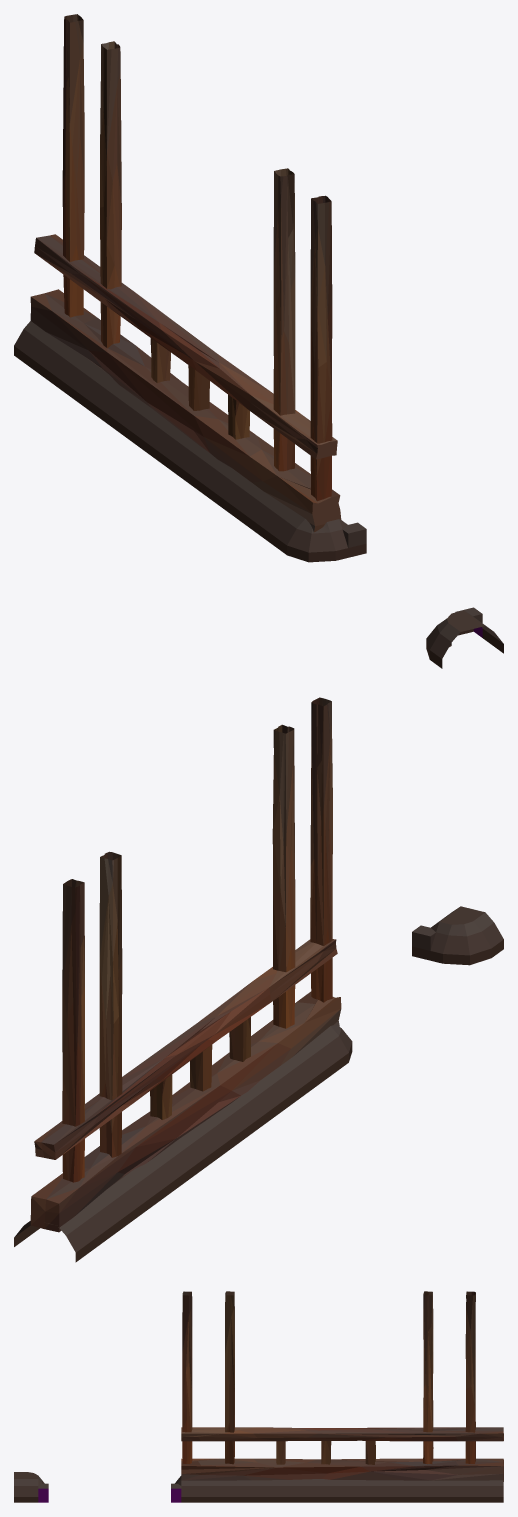
File: Wall_HomeA-StairsPathB.fbx
3 renders of one model, top to bottom at view 1: azimuth 30°, elevation 25°; view 2: azimuth 150°, elevation 25°; view 3: azimuth 270°, elevation 25°, orthographic. The views are drawn at different scales.
Visible parts, largest first — view 1: Wall_HomeA-StairsPathB; view 2: Wall_HomeA-StairsPathB; view 3: Wall_HomeA-StairsPathB.
Part boxes in pixels (x1,y1,x2,y2): Wall_HomeA-StairsPathB: (14,14,503,668); Wall_HomeA-StairsPathB: (14,697,503,1262); Wall_HomeA-StairsPathB: (14,1291,503,1502).
Bounding box in the file's own units: 50 × 271 × 600.
